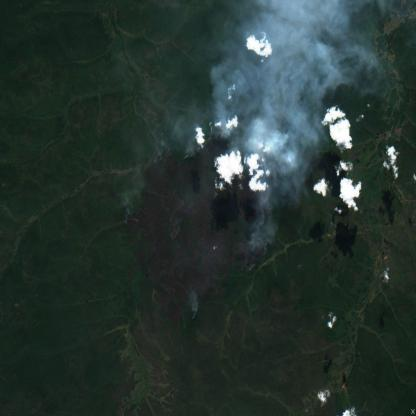fire: (242, 223, 270, 266), (180, 142, 200, 166), (122, 200, 133, 230), (188, 302, 200, 324)
